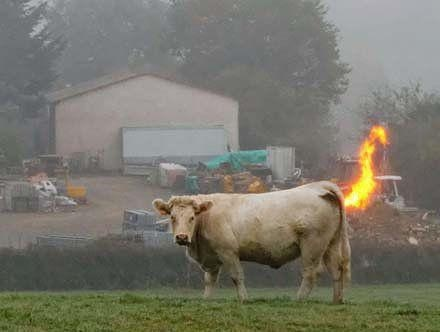fire: (341, 124, 387, 208)
